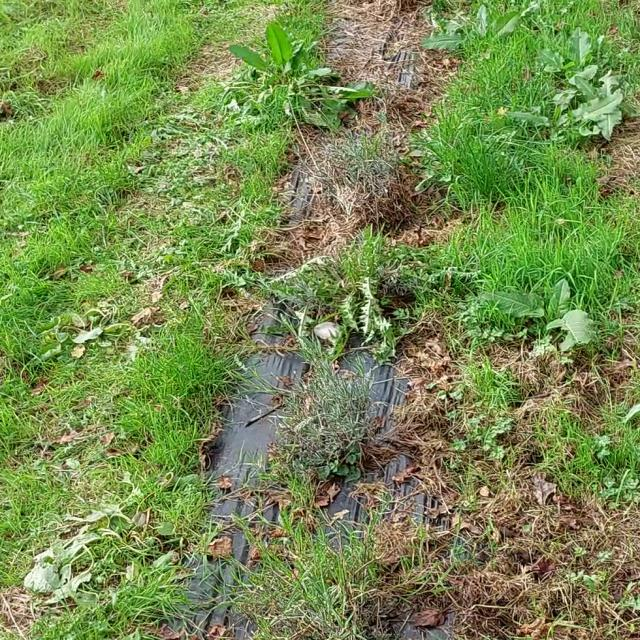organic waste: (467, 260, 617, 354), (222, 15, 350, 116), (46, 529, 141, 619), (428, 0, 519, 75), (54, 289, 137, 366), (565, 54, 640, 131)
